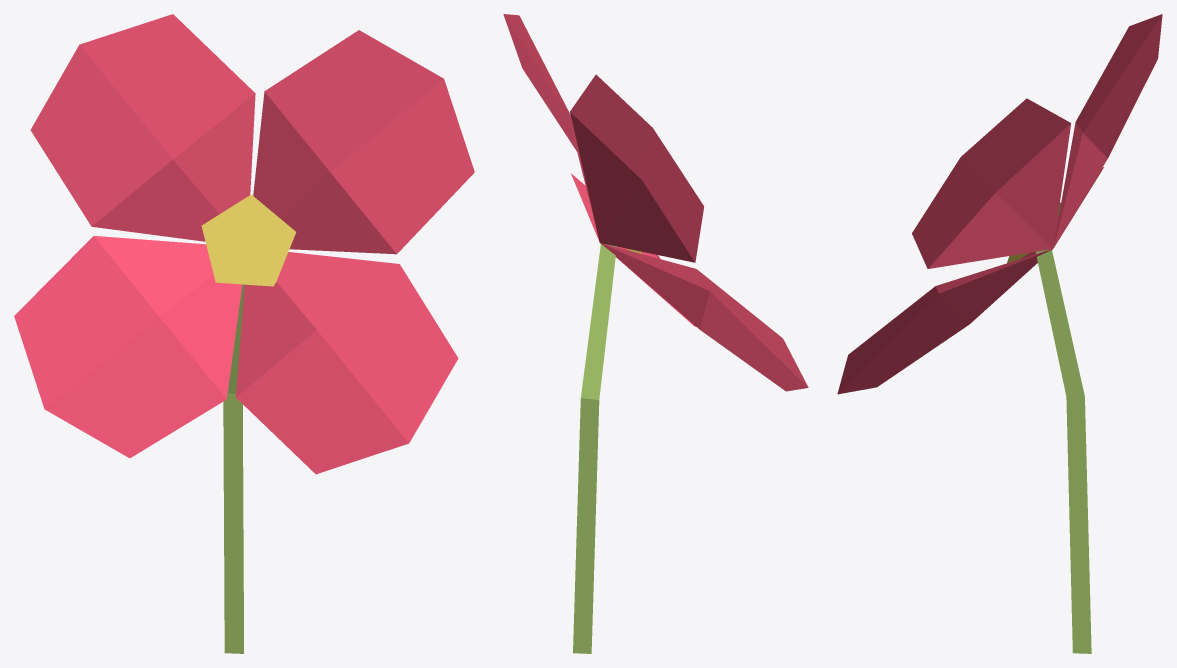
Rendered from Flower_c_TwoS_07.fbx.
The picture shows the model from 3 angles, left to right: view 1: azimuth 30°, elevation 25°; view 2: azimuth 150°, elevation 25°; view 3: azimuth 270°, elevation 25°; orthographic projection. The views are drawn at different scales.
Visible parts, largest first — view 1: Flower_c_TwoS_07; view 2: Flower_c_TwoS_07; view 3: Flower_c_TwoS_07.
Boxes of the visible parts, x1,y1,x2,y2 form: Flower_c_TwoS_07: (14,14,474,653); Flower_c_TwoS_07: (503,14,808,653); Flower_c_TwoS_07: (837,14,1162,653).
Size of the model in its own units: 0.262 by 0.4296 by 0.2086.
